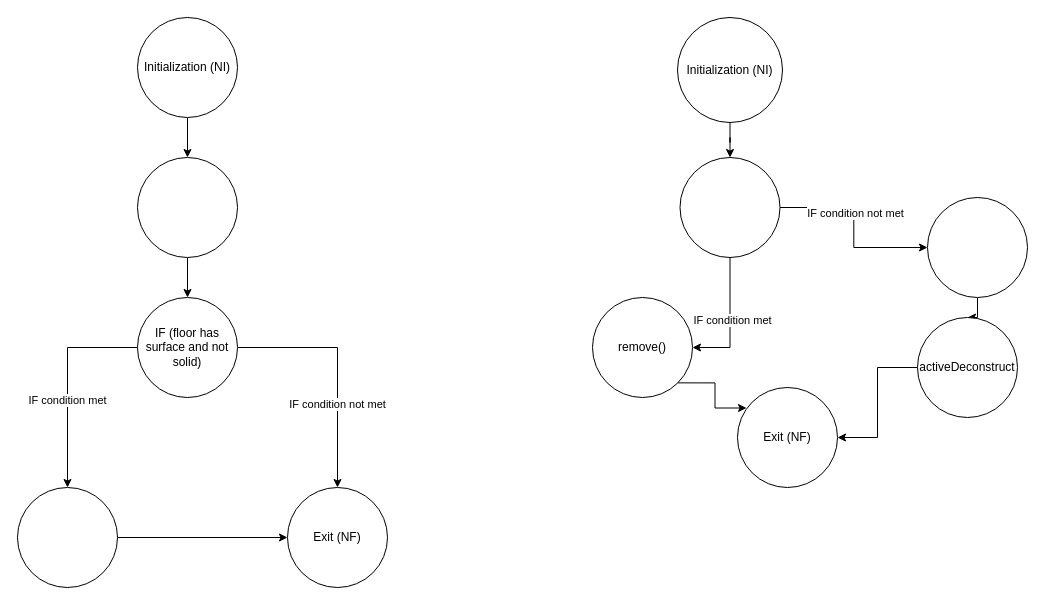
The diagram is 1045 pixels wide and 605 high, and some of its shapes have lost their labels. The centre of each missing label's shape, as x and y in pixels:
blockExplosion(): point 187,207
constructColor: point 977,247
Effect.rubble(): point 67,537
IF (current == air): point 729,207
